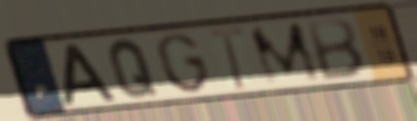A: (61, 42, 119, 107)
B: (303, 15, 368, 82)
G: (153, 30, 214, 95)
M: (245, 19, 326, 89)
Q: (106, 37, 160, 100)
T: (204, 23, 248, 93)
